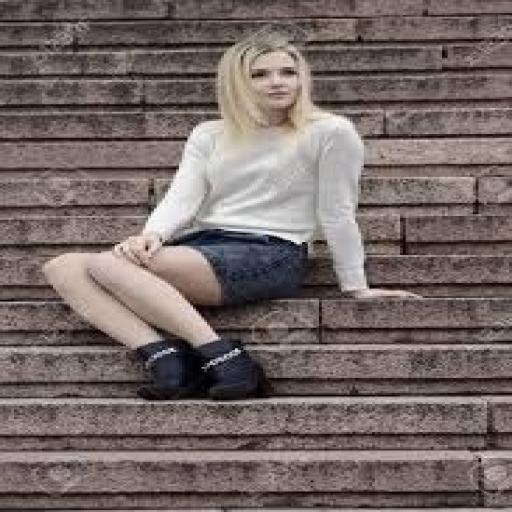sitting: (39, 21, 425, 402)
